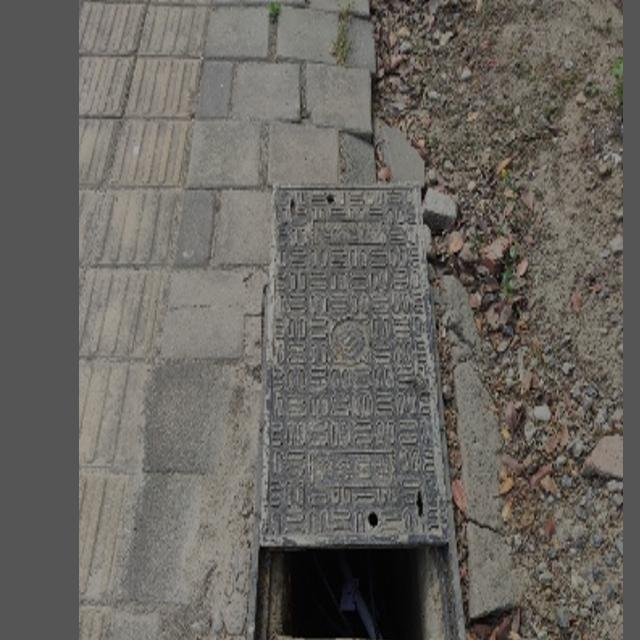uncovered: (232, 174, 477, 640)
